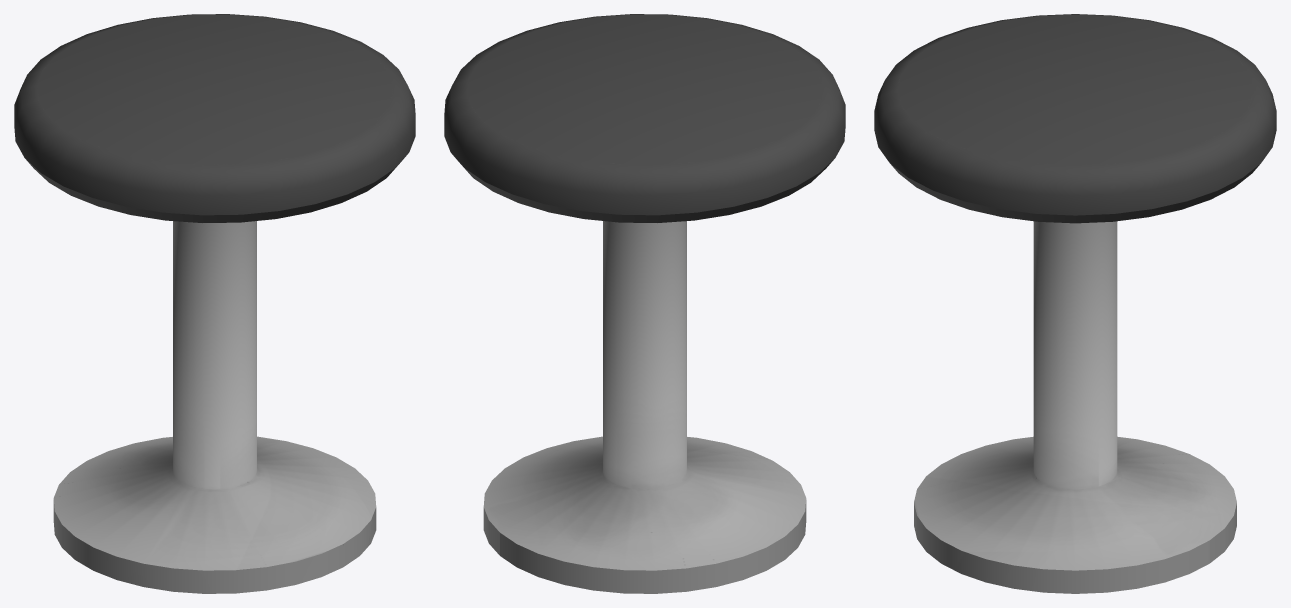
The model's file is Stool_GEO.fbx.
3 views of the same model, side by side, from view 1: azimuth 30°, elevation 25°; view 2: azimuth 150°, elevation 25°; view 3: azimuth 270°, elevation 25° (orthographic).
Visible parts, largest first — view 1: Stool_GEO; view 2: Stool_GEO; view 3: Stool_GEO.
Part boxes in pixels (x1,y1,x2,y2): Stool_GEO: (14,14,415,593); Stool_GEO: (444,14,845,593); Stool_GEO: (874,14,1276,593).
Size of the model in its own units: 81.39 by 97.28 by 81.39.
1 material, 1 textured.
